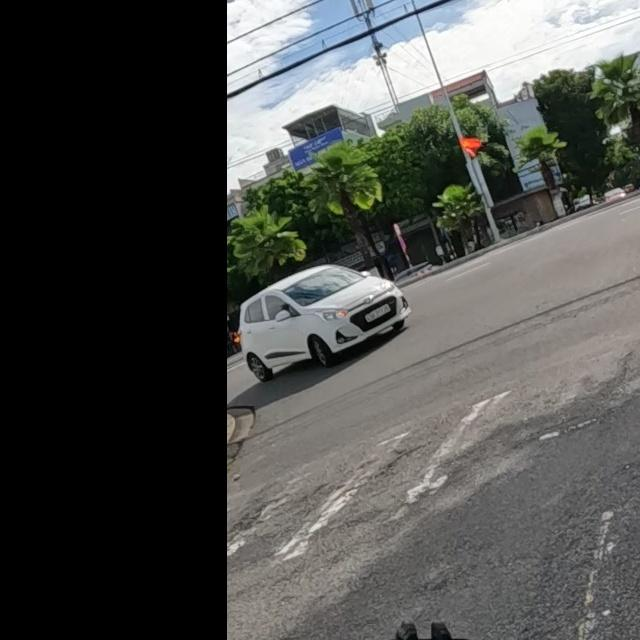license-plate: (364, 303, 393, 323)
